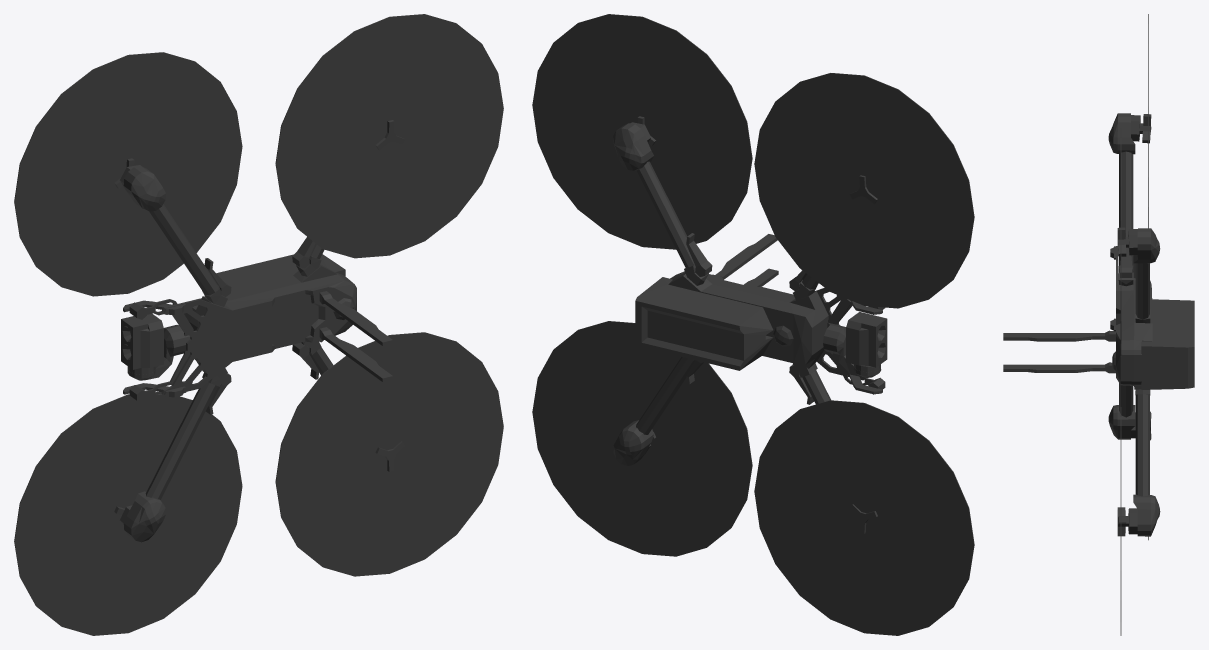
The model's file is drone.glb.
The picture shows the model from 3 angles, left to right: view 1: azimuth 30°, elevation 25°; view 2: azimuth 150°, elevation 25°; view 3: azimuth 270°, elevation 25°; orthographic projection. The views are drawn at different scales.
Parts seen in each view (by area): view 1: drone_0; view 2: drone_0; view 3: drone_0.
Part boxes in pixels (x1=…): drone_0: x1=14, y1=14, x2=503, y2=635; drone_0: x1=532, y1=14, x2=974, y2=635; drone_0: x1=1003, y1=14, x2=1194, y2=635.
Size of the model in its own units: 0.5498 by 0.641 by 0.2193.
Materials: 1 (1 with a texture image).
